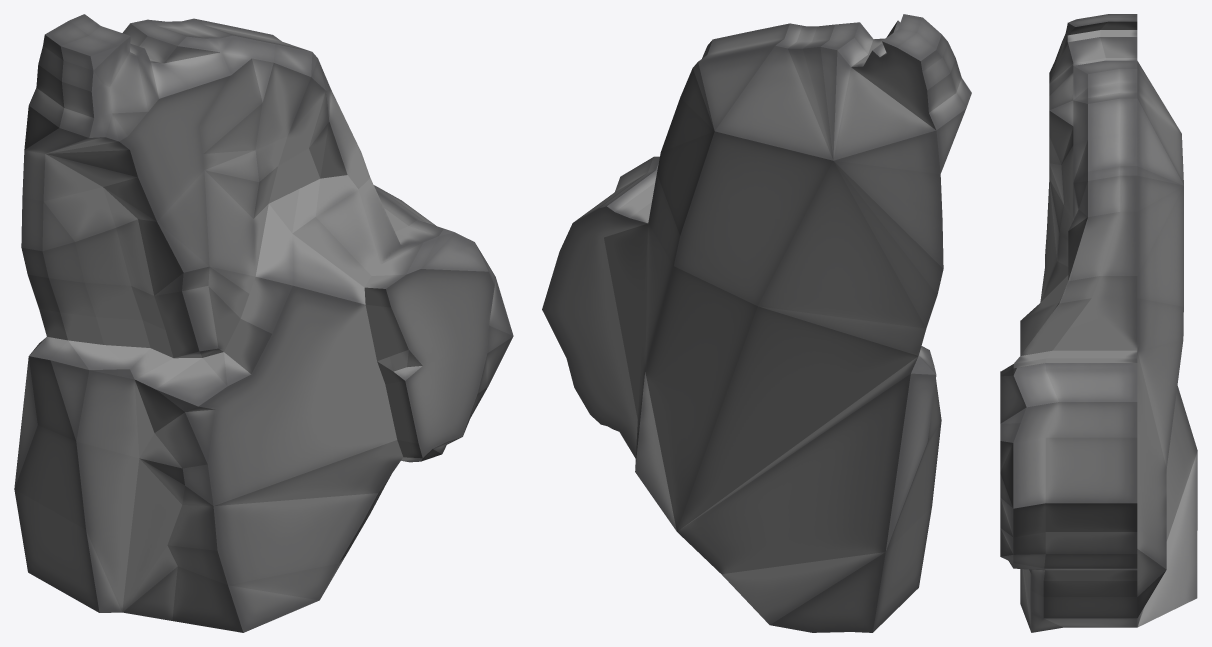
Rendered from Skala1.fbx.
3 views of the same model, side by side, from view 1: azimuth 30°, elevation 25°; view 2: azimuth 150°, elevation 25°; view 3: azimuth 270°, elevation 25° (orthographic). The views are drawn at different scales.
Visible parts, largest first — view 1: skala1; view 2: skala1; view 3: skala1.
Part boxes in pixels (bbox=[...]): skala1: bbox=[14, 14, 513, 632]; skala1: bbox=[542, 14, 971, 632]; skala1: bbox=[1000, 14, 1197, 632].
Bounding box in the file's own units: 116 × 156 × 51.69.
1 material, 1 textured.
